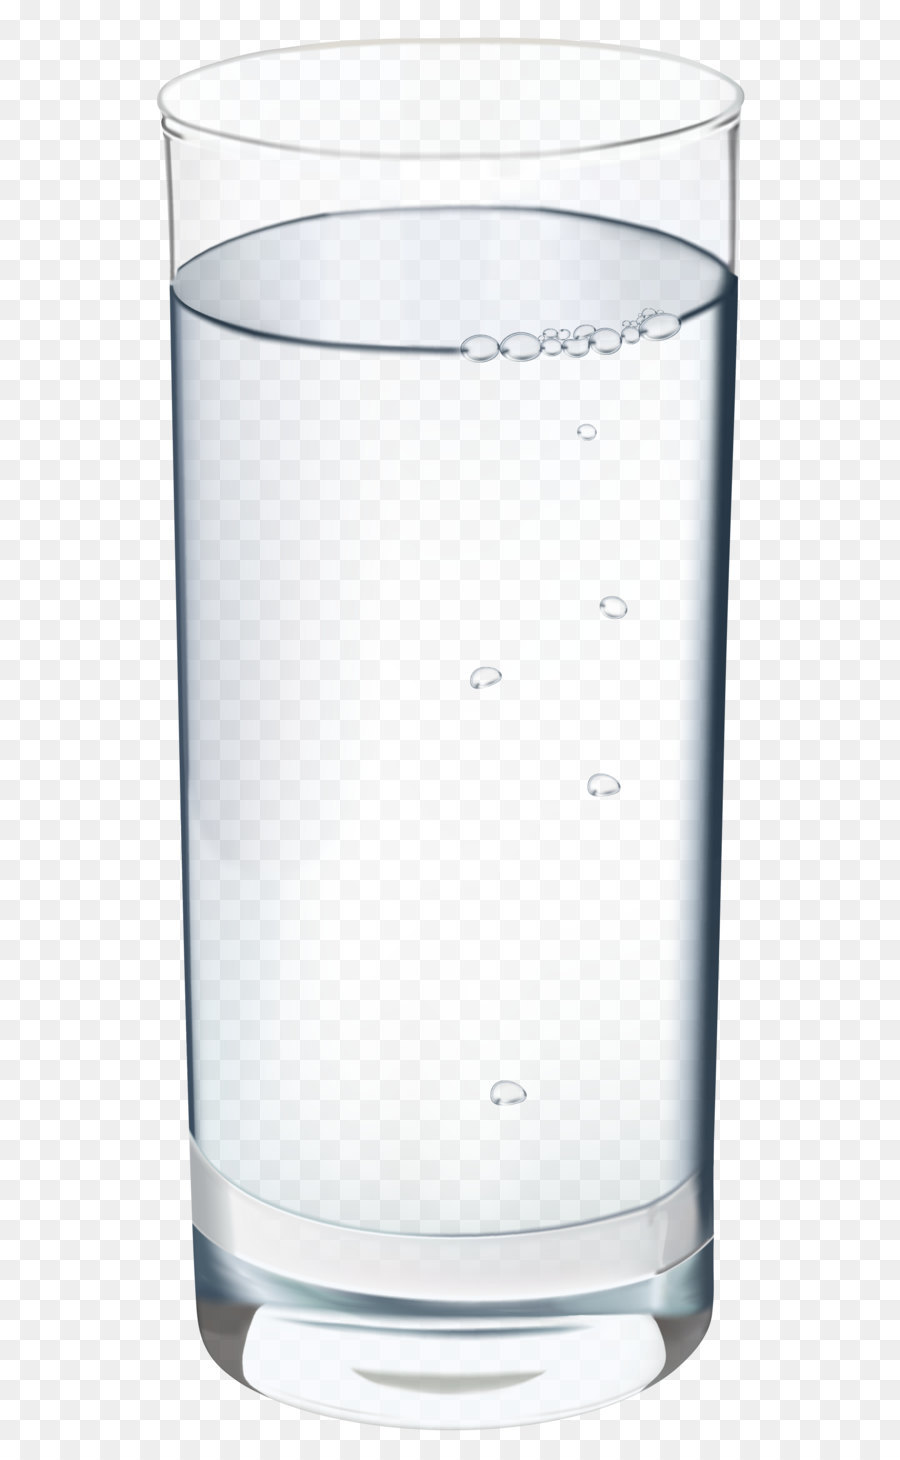glass of water: (184, 99, 698, 1330)
